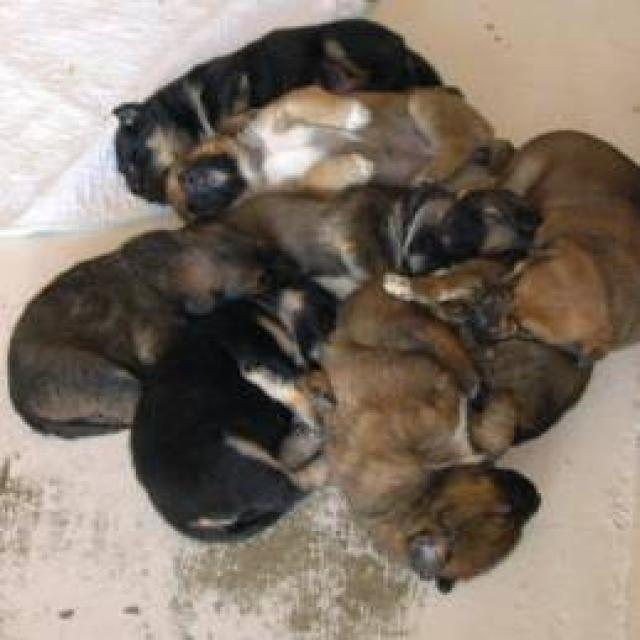dog: (109, 16, 442, 204), (168, 83, 514, 223), (215, 180, 541, 294)
